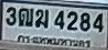letters: (18, 6, 34, 28), (34, 8, 50, 30), (92, 12, 106, 34), (66, 10, 79, 32), (53, 10, 66, 31), (79, 11, 91, 33), (5, 6, 17, 27)
province: (17, 33, 92, 48)
